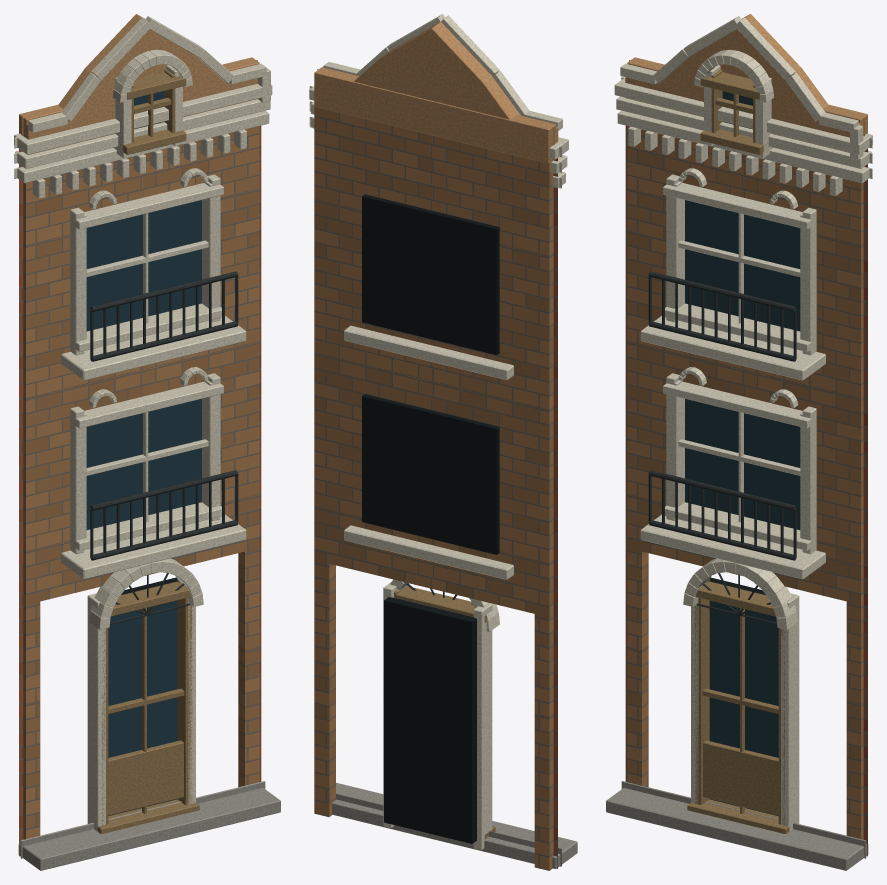
The model's file is VICT22_lod1.glb.
The picture shows the model from 3 angles, left to right: view 1: azimuth 30°, elevation 25°; view 2: azimuth 150°, elevation 25°; view 3: azimuth 330°, elevation 25°; orthographic projection.
Visible parts, largest first — view 1: VICT22_FRONT_LOD1; view 2: VICT22_FRONT_LOD1; view 3: VICT22_FRONT_LOD1.
Part boxes in pixels (left/top/right/bottom): VICT22_FRONT_LOD1: left=14, top=14, right=280, bottom=870; VICT22_FRONT_LOD1: left=309, top=14, right=577, bottom=870; VICT22_FRONT_LOD1: left=606, top=14, right=872, bottom=870.
Size of the model in its own units: 3.44 by 10.64 by 0.8592.
10 materials, 8 textured.
